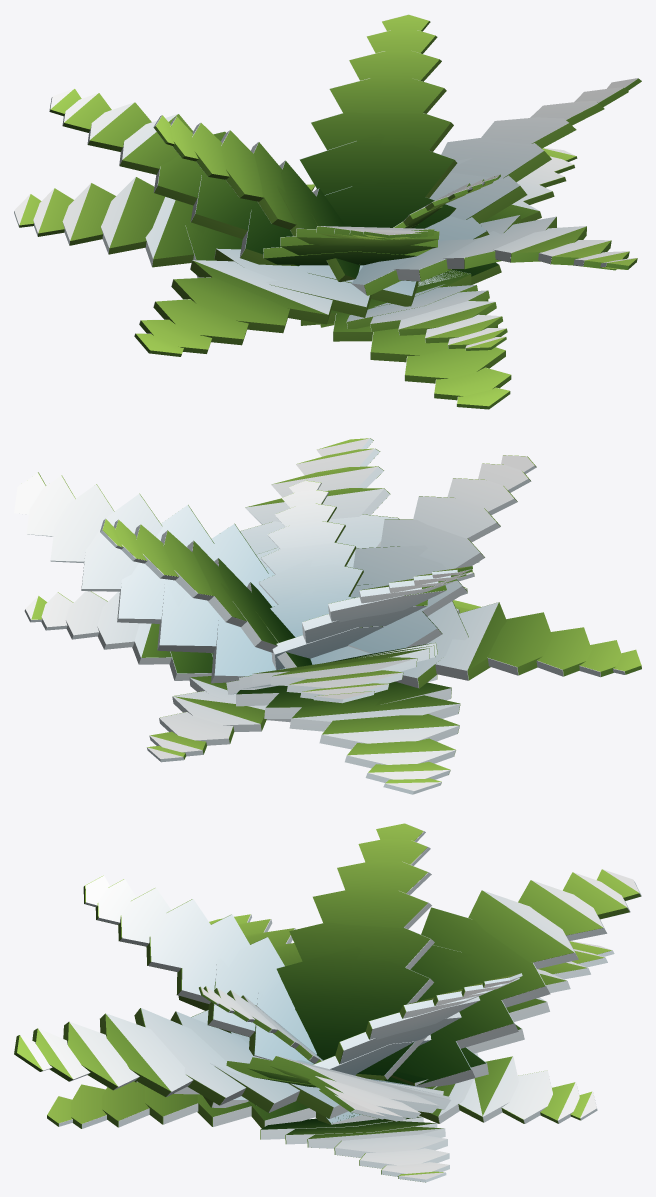
The model's file is fougere2_complet.fbx.
The picture shows the model from 3 angles, top to bottom: view 1: azimuth 30°, elevation 25°; view 2: azimuth 150°, elevation 25°; view 3: azimuth 270°, elevation 25°; orthographic projection. The views are drawn at different scales.
Parts seen in each view (by area): view 1: Cylinder.024, Cylinder.061; view 2: Cylinder.061, Cylinder.024; view 3: Cylinder.024, Cylinder.061.
Part boxes in pixels (x1,y1,x2,y2): Cylinder.024: [19, 14, 641, 409]; Cylinder.061: [14, 14, 638, 406]; Cylinder.061: [14, 438, 625, 794]; Cylinder.024: [31, 438, 641, 783]; Cylinder.024: [14, 823, 640, 1182]; Cylinder.061: [20, 823, 641, 1182].
Bounding box in the file's own units: 2.08 × 0.7203 × 1.93.
1 material, 1 textured.
